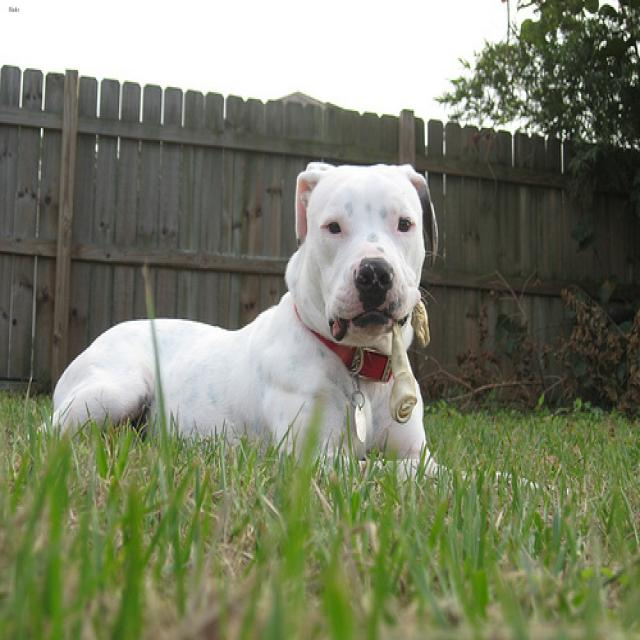dog-american_bulldog: (42, 154, 562, 497)
